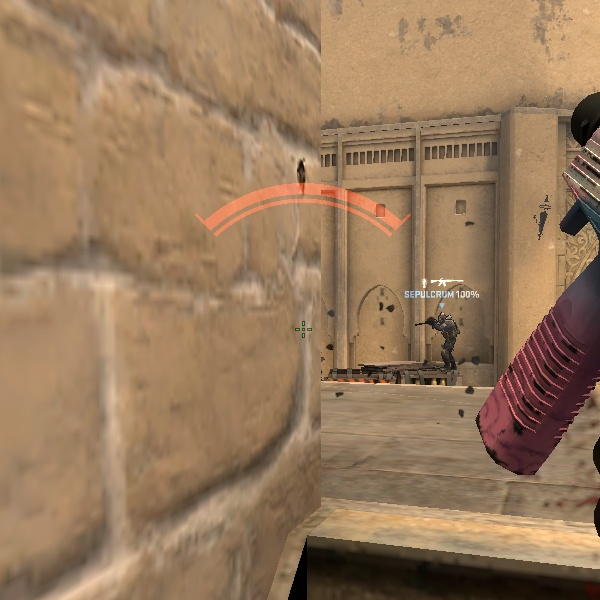ct_body: (424, 309, 468, 371)
ct_head: (435, 309, 453, 327)
